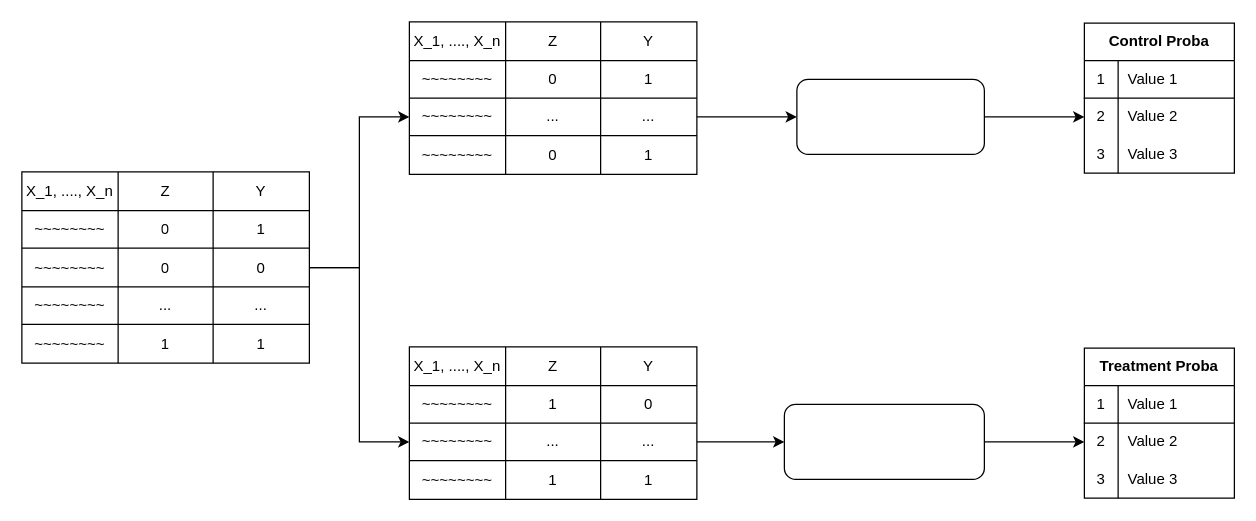
Some shapes in this 1256 by 521 pixel diagram are drawn without their labels. Each missing label, with the centre of its shape:
Control Model: the point at 890,116
Treatment Model: the point at 883,441
